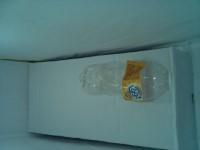bottle: (81, 59, 174, 102)
